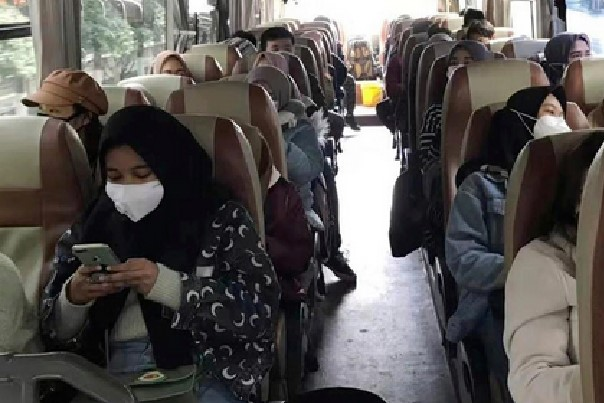face_with_mask: (102, 112, 201, 227), (493, 88, 568, 165)
